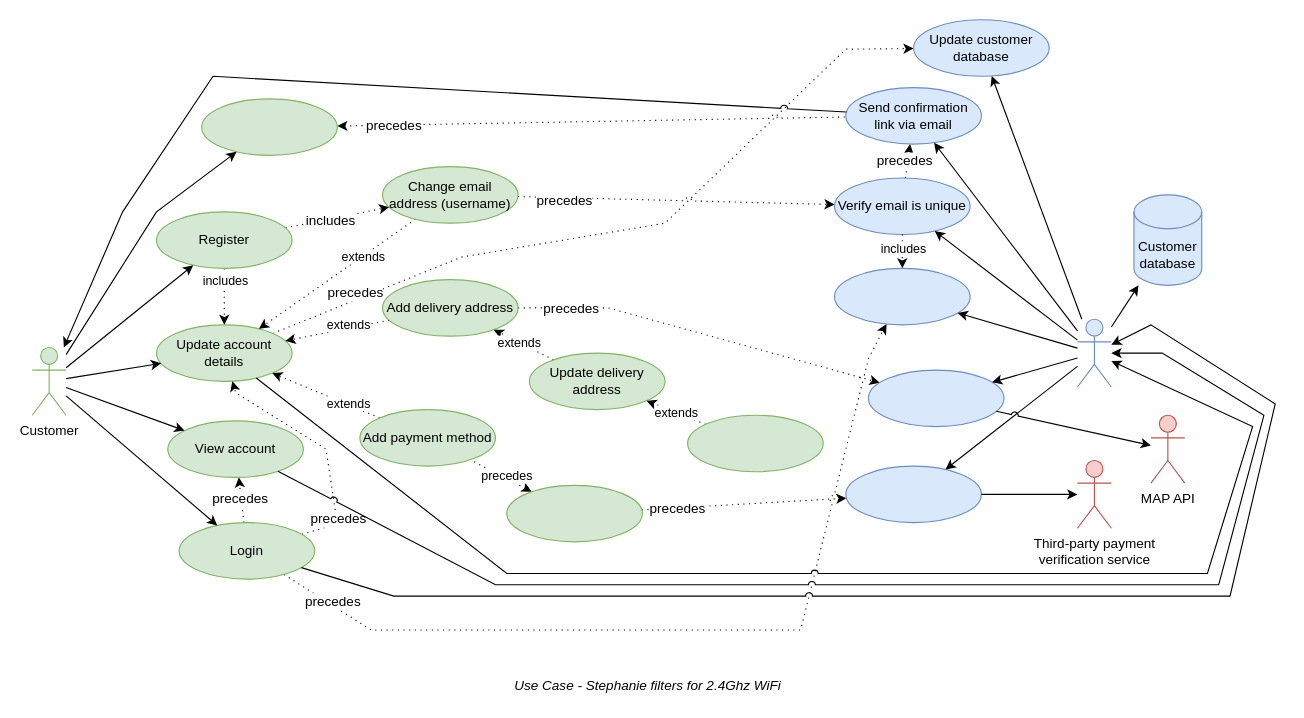
The diagram is 1304 pixels wide and 718 high, and some of its shapes have lost their labels. The box of each missing label's shape, as (x1, y1, x2, y2) in pixels:
Check for existing account: (833, 267, 970, 325)
Confirm email address: (201, 98, 337, 155)
Delete delivery address: (686, 414, 823, 472)
Enter payment details: (506, 484, 642, 542)
System: (1076, 318, 1111, 387)
Verify credit card details: (845, 465, 981, 523)
Verify valid address: (867, 369, 1004, 427)
